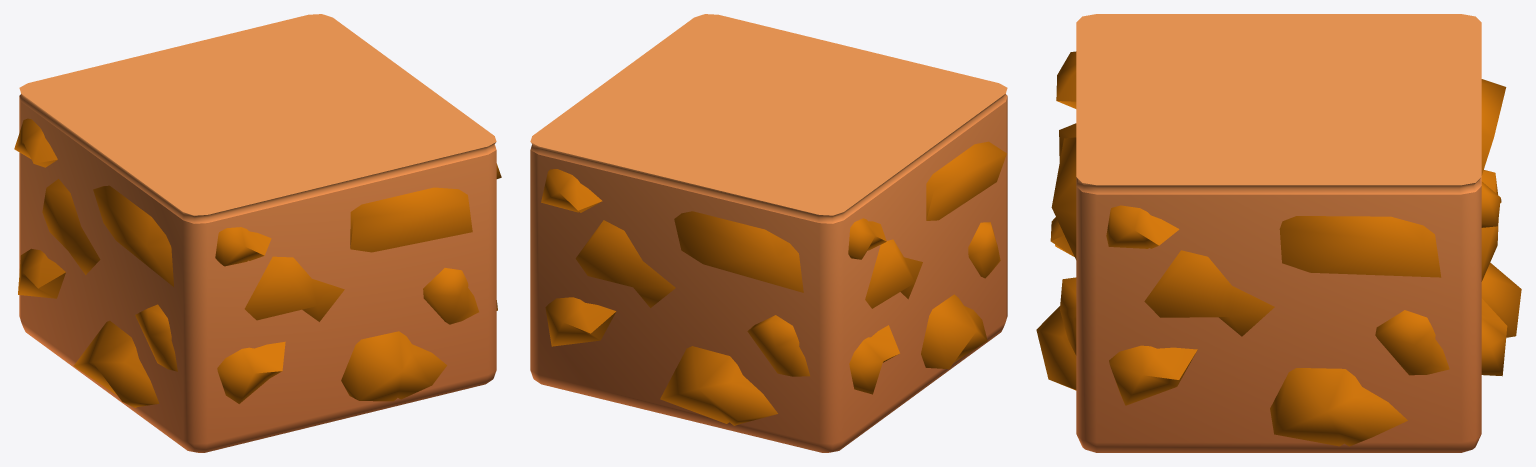
The model's file is 3D_Tile_Socket_Underground_B01.fbx.
3 views of the same model, side by side, from view 1: azimuth 30°, elevation 25°; view 2: azimuth 150°, elevation 25°; view 3: azimuth 270°, elevation 25° (orthographic). The views are drawn at different scales.
Visible parts, largest first — view 1: 3D_Tile_Socket_Underground_B01; view 2: 3D_Tile_Socket_Underground_B01; view 3: 3D_Tile_Socket_Underground_B01.
Part boxes in pixels (x1=…): 3D_Tile_Socket_Underground_B01: x1=14, y1=14, x2=501, y2=452; 3D_Tile_Socket_Underground_B01: x1=530, y1=14, x2=1007, y2=452; 3D_Tile_Socket_Underground_B01: x1=1036, y1=14, x2=1521, y2=452.
Size of the model in its own units: 239 by 150 by 239.
